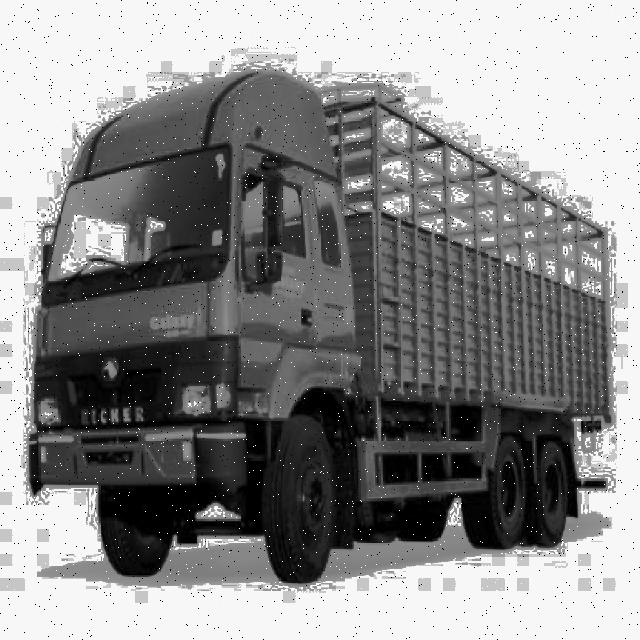HCV: (82, 121, 610, 542)
